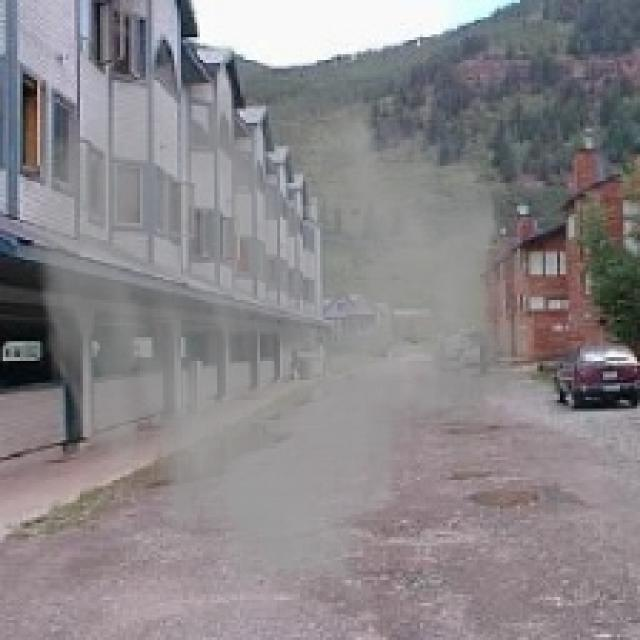Smoke: (17, 57, 537, 614)
